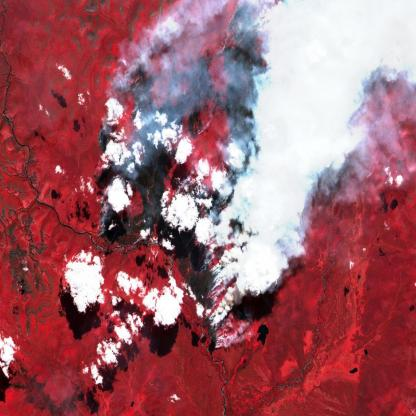fire: (89, 0, 300, 357)
